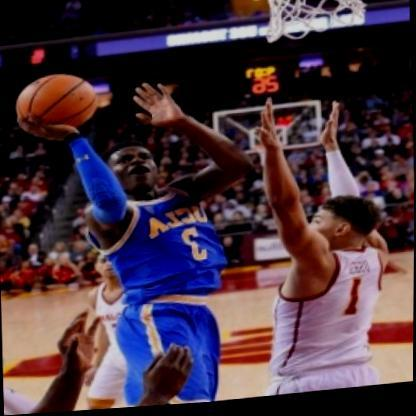basketball: (11, 67, 101, 137)
